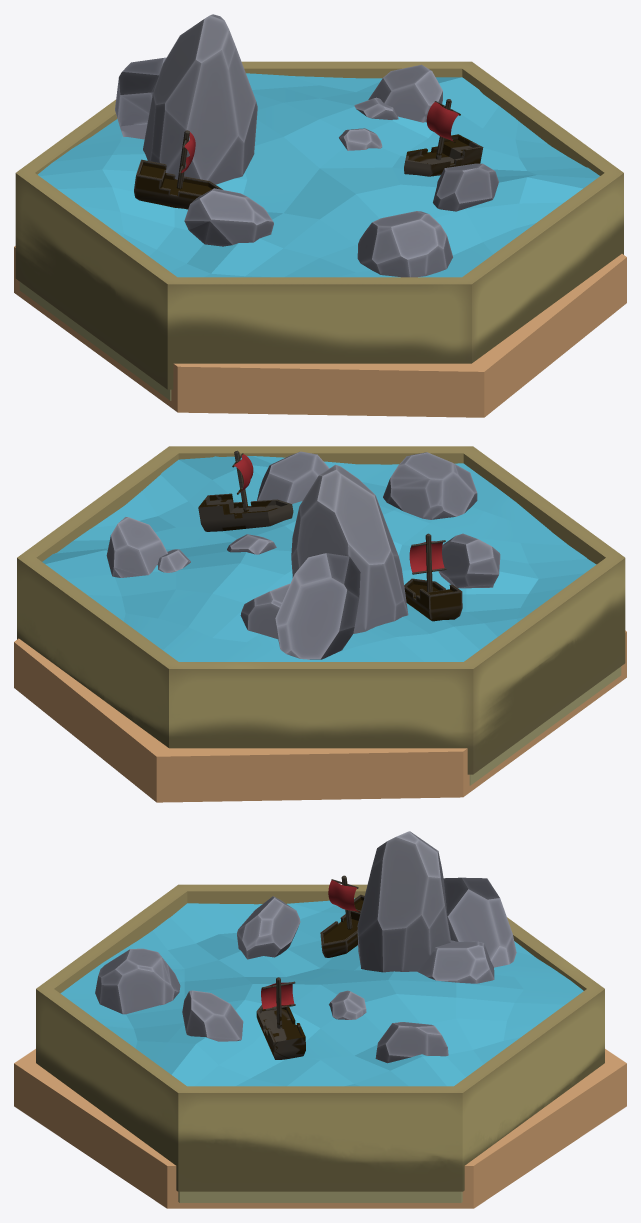
File: riverTile.fbx
The picture shows the model from 3 angles, top to bottom: view 1: azimuth 30°, elevation 25°; view 2: azimuth 150°, elevation 25°; view 3: azimuth 270°, elevation 25°; orthographic projection. The views are drawn at different scales.
Parts seen in each view (by area): view 1: Base_Aigua_Aigua, Aigua_Aigua, Aigua_Roques, Casilla, Aigua_Barco_2, Aigua_Barco_1, riverTile; view 2: Base_Aigua_Aigua, Aigua_Aigua, Aigua_Roques, Casilla, Aigua_Barco_2, Aigua_Barco_1, riverTile; view 3: Base_Aigua_Aigua, Aigua_Aigua, Aigua_Roques, Casilla, riverTile, Aigua_Barco_2, Aigua_Barco_1.
Boxes of the visible parts, x1,y1,x2,y2 form: Base_Aigua_Aigua: (15, 61, 623, 389); Aigua_Aigua: (37, 73, 599, 277); Aigua_Roques: (115, 14, 498, 277); Casilla: (14, 246, 626, 417); Aigua_Barco_2: (404, 99, 483, 176); Aigua_Barco_1: (134, 130, 222, 209); riverTile: (19, 282, 171, 400); Base_Aigua_Aigua: (17, 446, 625, 774); Aigua_Aigua: (42, 456, 596, 661); Aigua_Roques: (106, 451, 500, 659); Casilla: (14, 630, 626, 802); Aigua_Barco_2: (198, 450, 293, 531); Aigua_Barco_1: (404, 533, 462, 621); riverTile: (469, 666, 621, 785); Base_Aigua_Aigua: (36, 884, 604, 1191); Aigua_Aigua: (60, 898, 583, 1086); Aigua_Roques: (95, 831, 516, 1063); Casilla: (14, 1049, 626, 1208); riverTile: (178, 1191, 462, 1202); Aigua_Barco_2: (256, 977, 305, 1059); Aigua_Barco_1: (320, 875, 364, 957).
Size of the model in its own units: 214 by 144 by 266.
